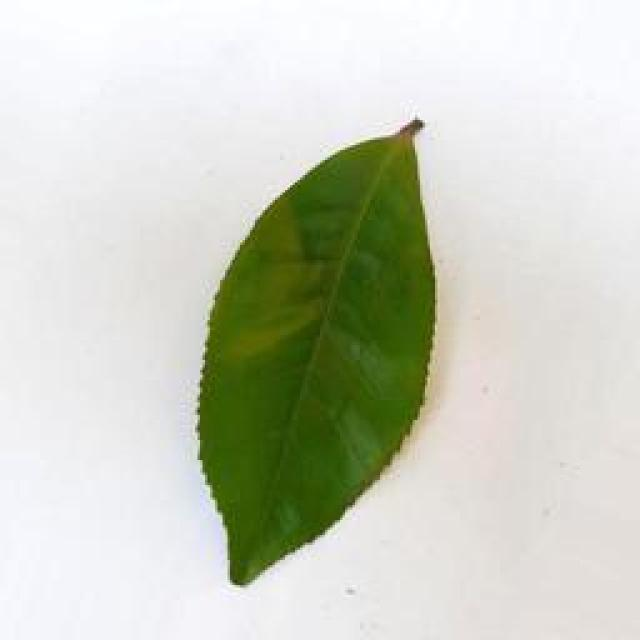Healthy: (195, 116, 438, 587)
